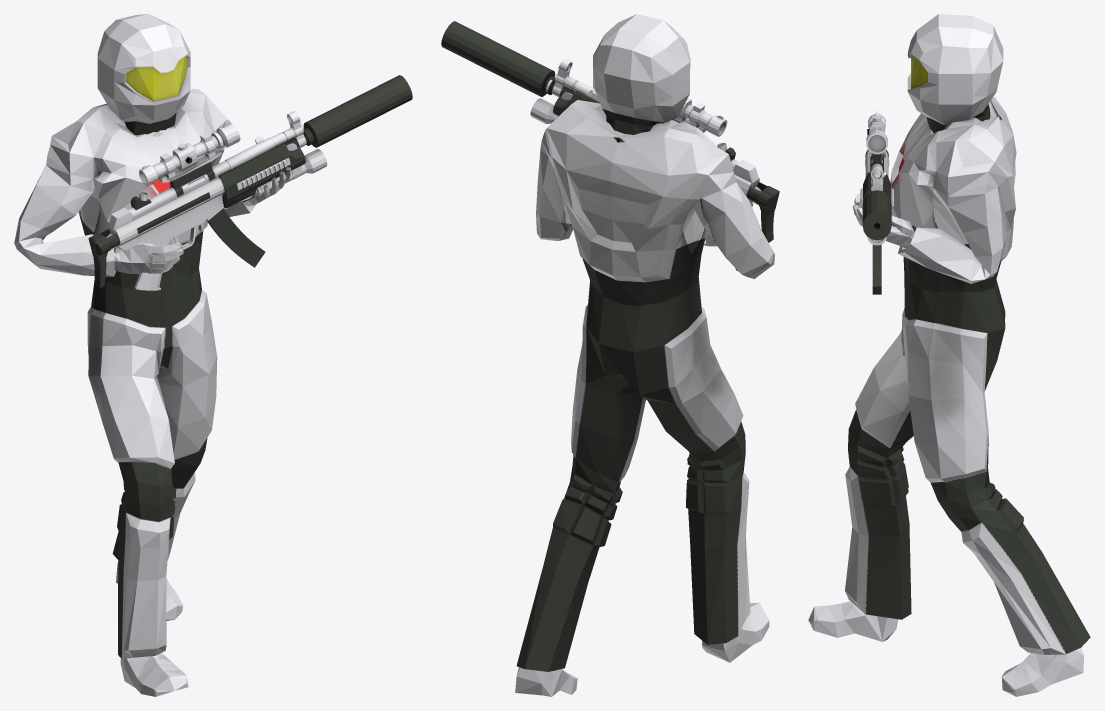
The model's file is walk6.obj.
The picture shows the model from 3 angles, left to right: view 1: azimuth 30°, elevation 25°; view 2: azimuth 150°, elevation 25°; view 3: azimuth 270°, elevation 25°; orthographic projection. The views are drawn at different scales.
Parts seen in each view (by area): view 1: Male001Skin_001, Object001; view 2: Male001Skin_001, Object001; view 3: Male001Skin_001, Object001.
Boxes of the visible parts, x1,y1,x2,y2 form: Male001Skin_001: [14, 14, 291, 696]; Object001: [88, 75, 412, 290]; Male001Skin_001: [515, 14, 774, 696]; Object001: [441, 21, 779, 246]; Male001Skin_001: [808, 14, 1090, 696]; Object001: [860, 111, 893, 294].
Size of the model in its own units: 1111 by 1901 by 756.
1 material, 1 textured.
